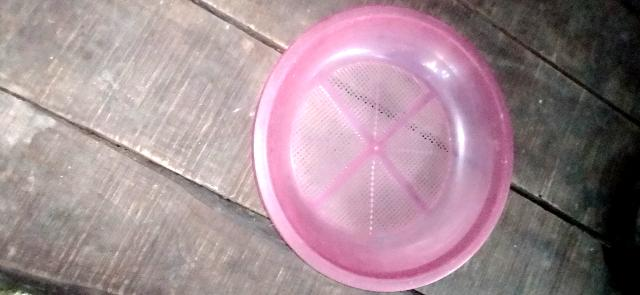hardplastic: (243, 0, 536, 295)
